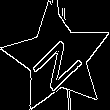N_NE: (26, 26, 89, 90)
